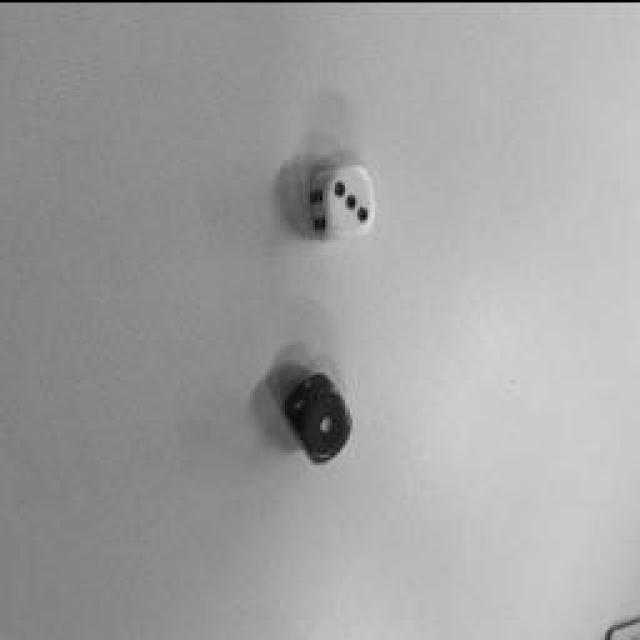dice_1: (300, 386, 350, 456)
dice_3: (328, 168, 374, 232)
